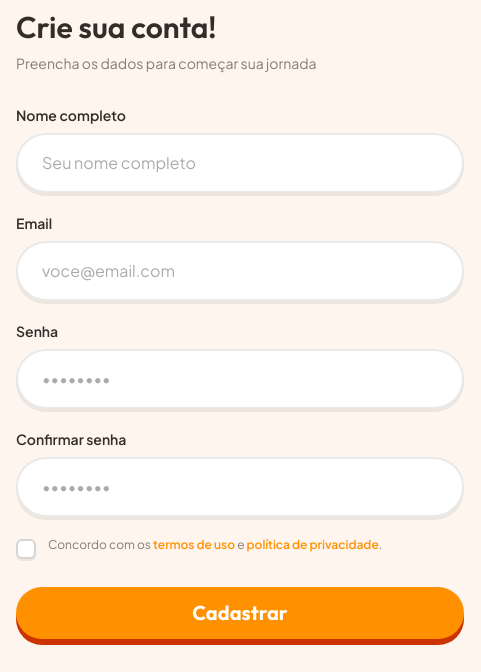
Test: RegisterForm › should display field errors returned by the action
Step 1. Type "X" into the field labelled "Nome completo" → (240, 163), box [42,151,438,175]
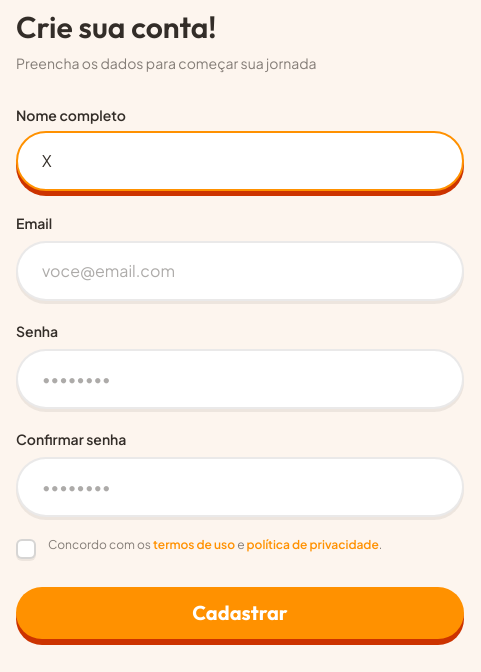
Step 2. Click the button "Cadastrar" → (240, 613), box [16,587,464,639]
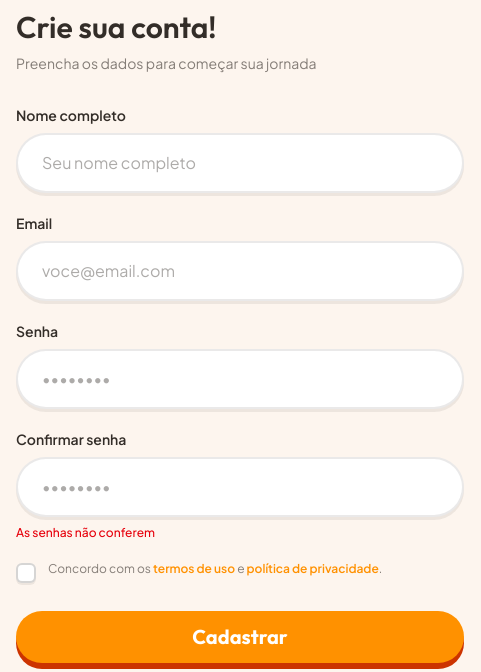
Check: the text "As senhas não conferem" is shown, box [16,525,155,540]
